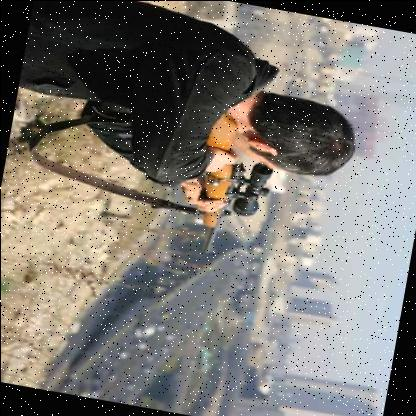rifle: (173, 102, 286, 269)
